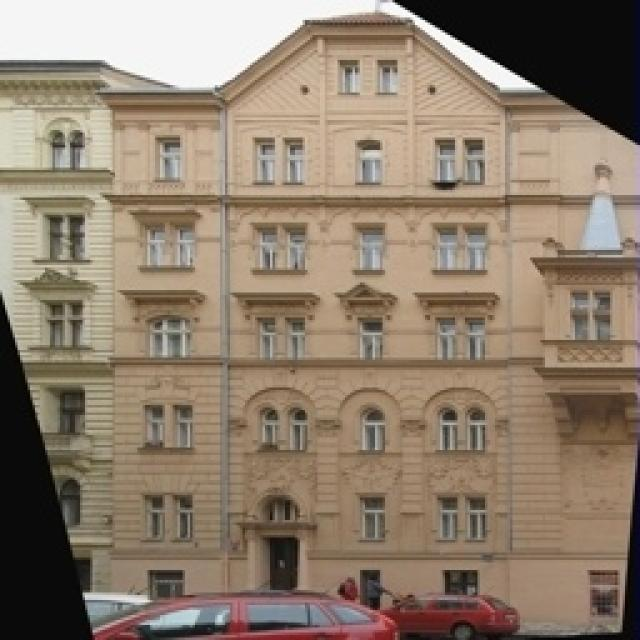building: (112, 5, 640, 640)
